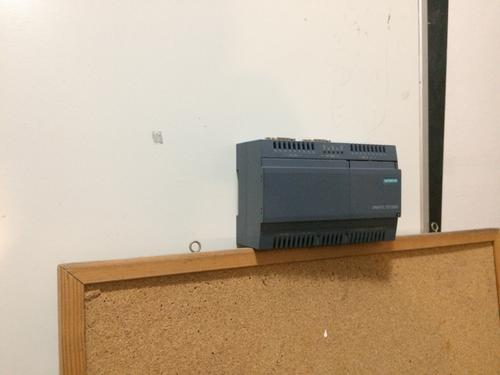iot2000: (233, 133, 404, 252)
